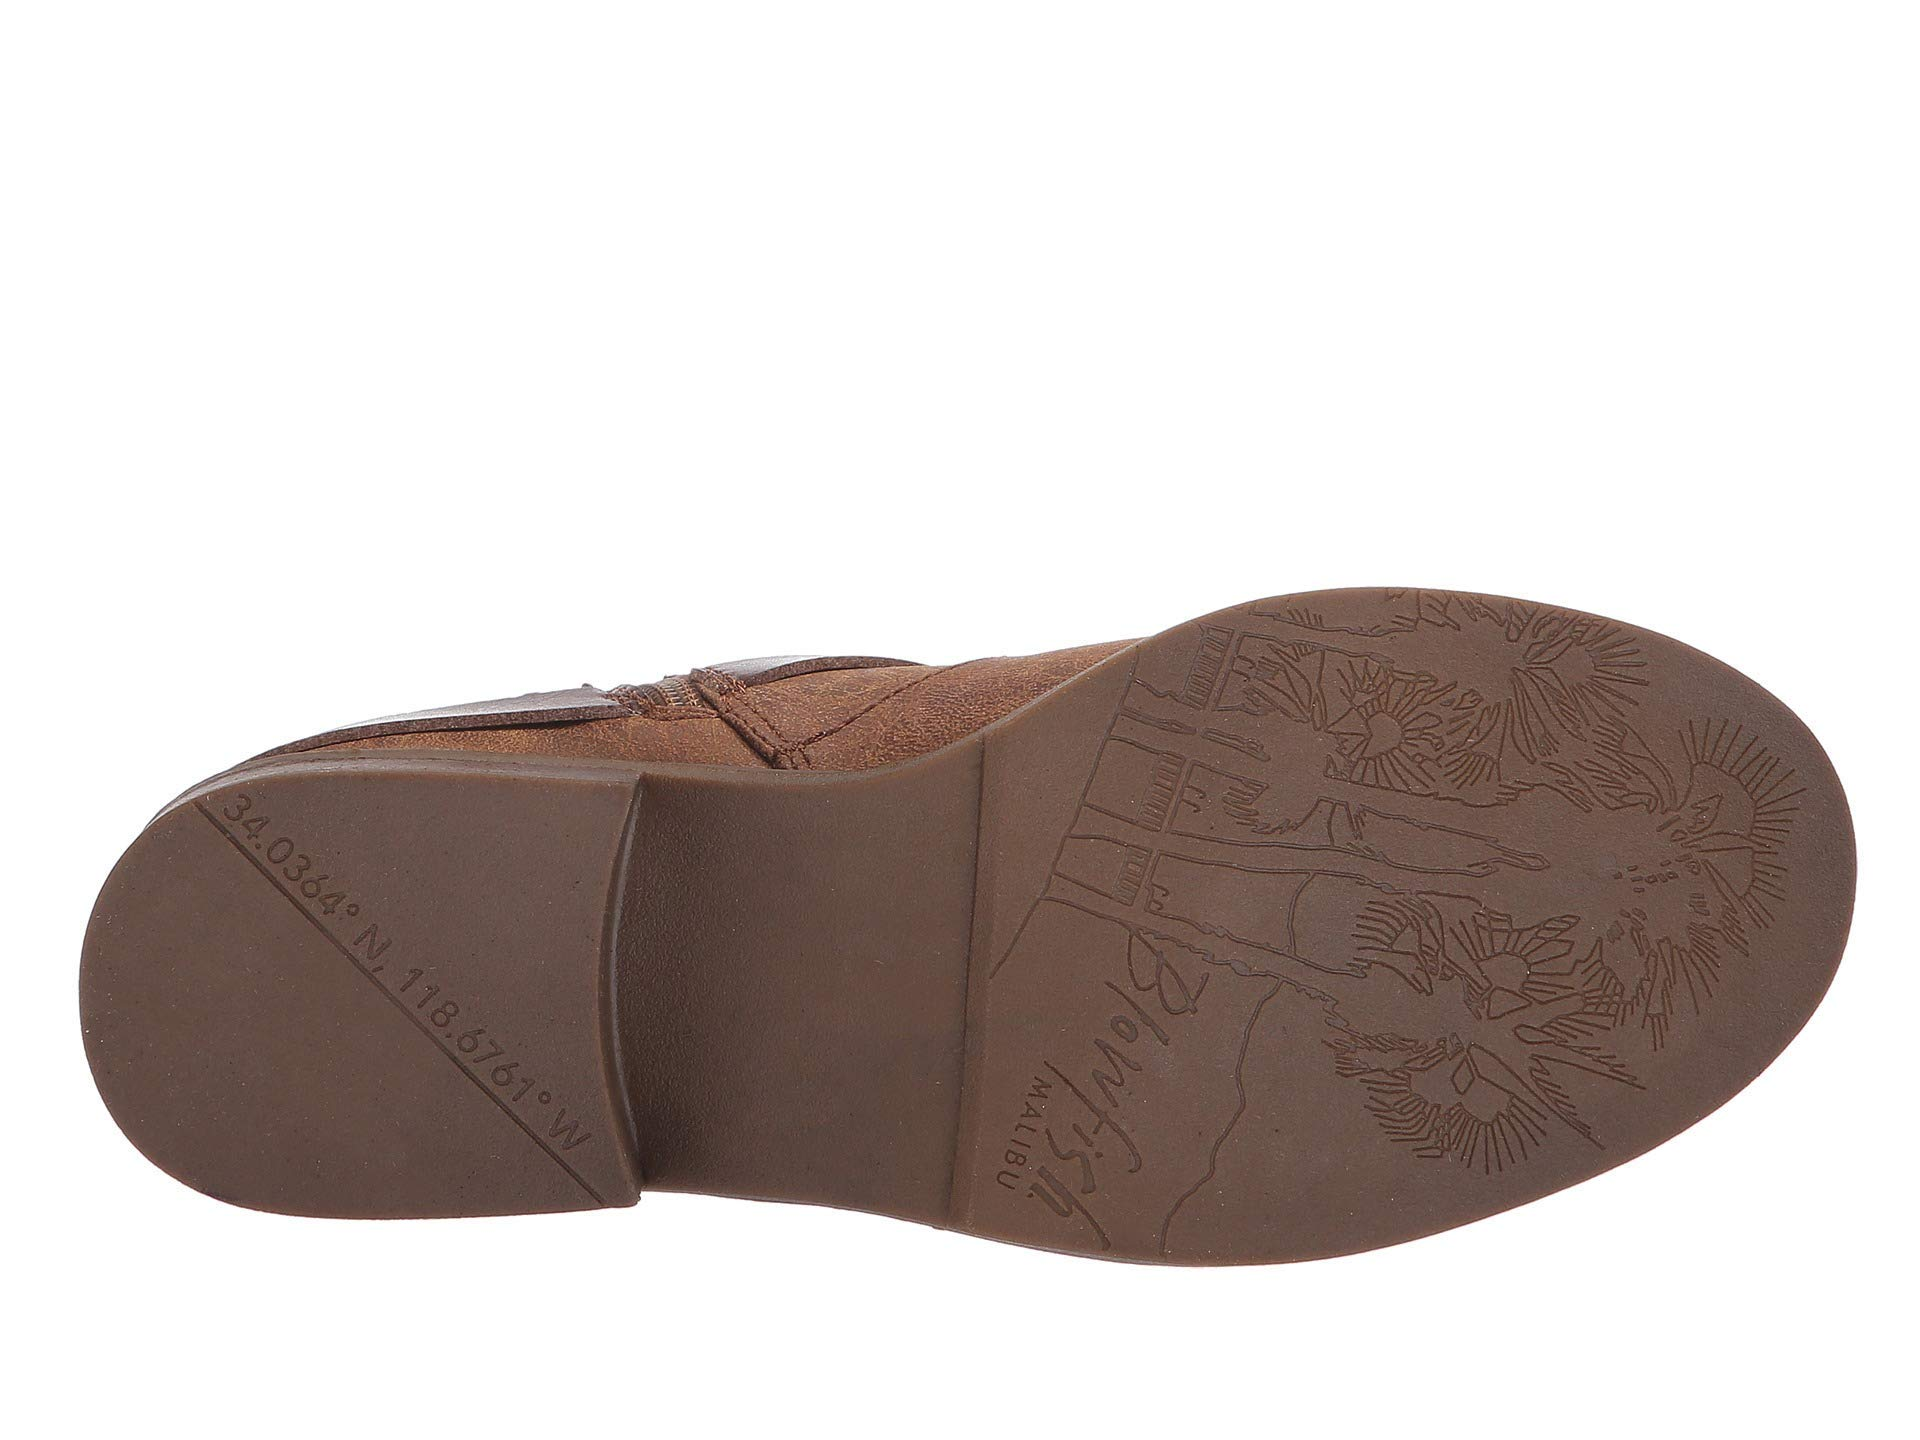circle: (159, 762, 641, 1193), (966, 897, 1238, 1257)
line: (1303, 599, 1705, 1171), (159, 762, 641, 1193), (966, 897, 1238, 1257)
other: (1303, 599, 1705, 1171)
quad: (1303, 599, 1705, 1171)
text: (159, 762, 641, 1193), (966, 897, 1238, 1257)
